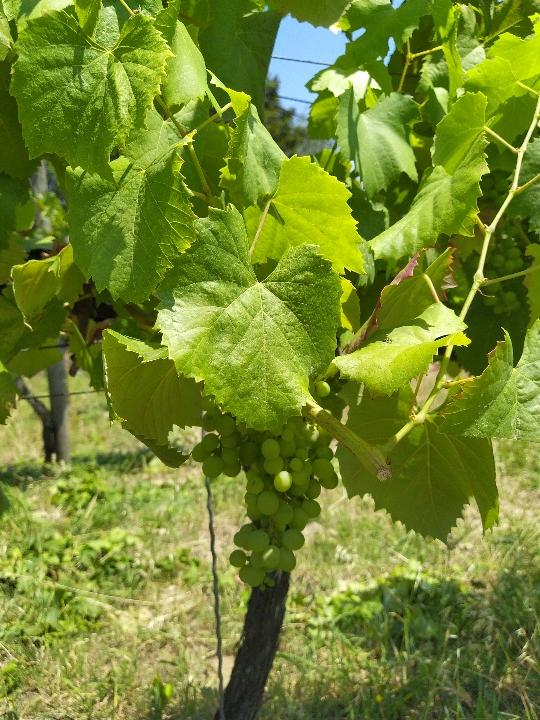grape: (187, 376, 340, 599)
